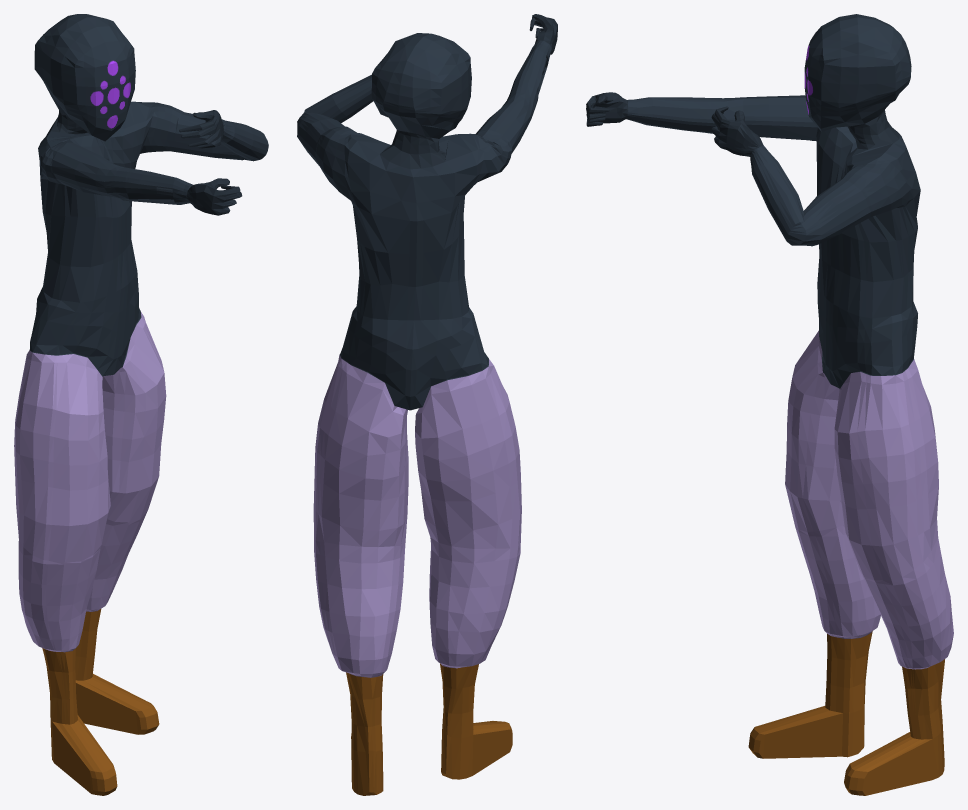
The model's file is Oracle_Attack_000015.obj.
3 renders of one model, left to right at view 1: azimuth 30°, elevation 25°; view 2: azimuth 150°, elevation 25°; view 3: azimuth 270°, elevation 25°, orthographic. The views are drawn at different scales.
Parts seen in each view (by area): view 1: Cube; view 2: Cube; view 3: Cube.
Part boxes in pixels (x1,y1,x2,y2): Cube: (14, 14, 268, 795); Cube: (297, 14, 557, 795); Cube: (586, 14, 953, 795).
Size of the model in its own units: 1.29 by 3.94 by 1.75.
